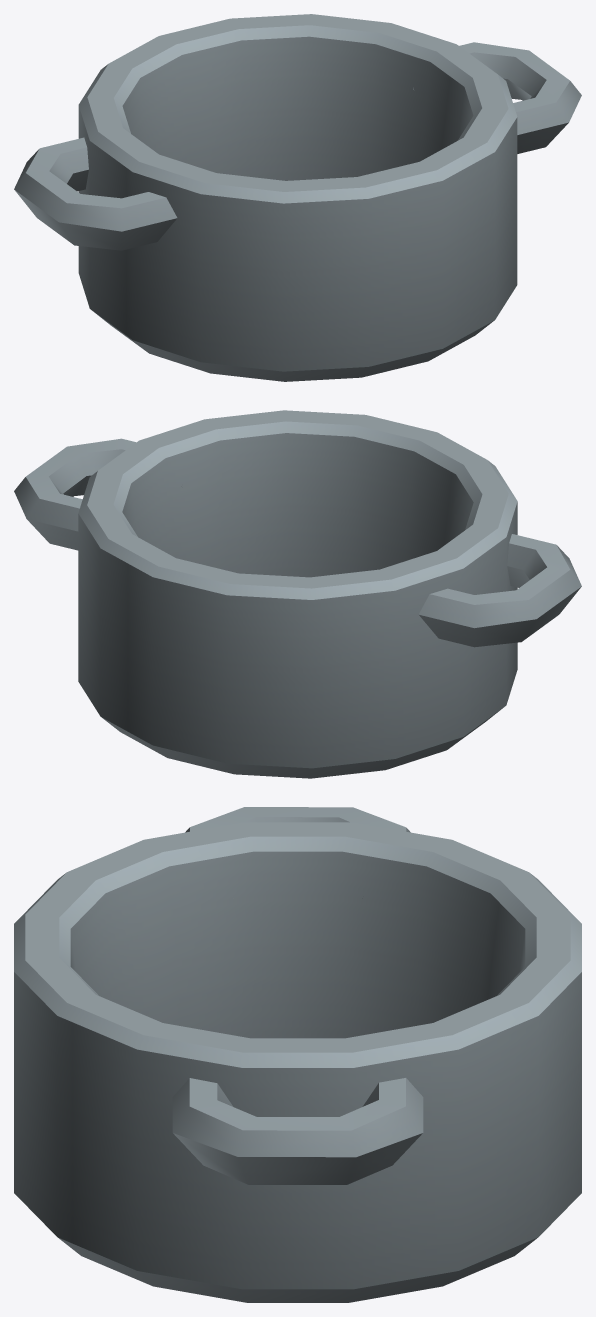
Rendered from kay-pot_a.glb.
3 views of the same model, one above another, from view 1: azimuth 30°, elevation 25°; view 2: azimuth 150°, elevation 25°; view 3: azimuth 270°, elevation 25° (orthographic). The views are drawn at different scales.
Visible parts, largest first — view 1: pot_A; view 2: pot_A; view 3: pot_A.
Boxes of the visible parts, x1=… form: pot_A: x1=14, y1=14, x2=581, y2=381; pot_A: x1=14, y1=410, x2=581, y2=778; pot_A: x1=14, y1=807, x2=581, y2=1302.
Bounding box in the file's own units: 0.22 × 0.0786 × 0.1571.
1 material, 1 textured.
